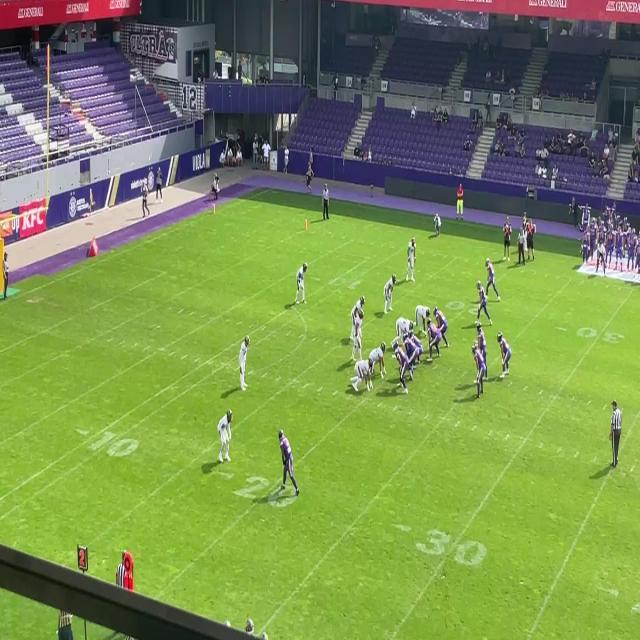1: (90, 419, 116, 453)
2: (223, 466, 279, 505)
3: (415, 518, 452, 564)
american-football-players: (278, 429, 300, 498), (471, 343, 487, 404), (392, 342, 409, 396), (349, 360, 375, 395), (472, 322, 490, 372), (218, 407, 233, 466), (475, 280, 493, 328), (426, 318, 443, 367), (351, 309, 366, 364), (485, 259, 503, 304), (498, 329, 514, 378), (403, 335, 419, 384), (432, 305, 448, 347), (369, 343, 387, 379), (393, 315, 414, 345), (352, 295, 366, 339), (239, 334, 249, 391), (411, 303, 431, 331), (406, 236, 417, 284), (295, 262, 307, 302), (385, 273, 396, 314)
